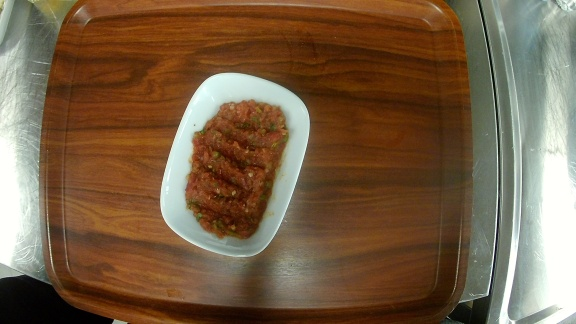acilimeze: (159, 72, 311, 260)
